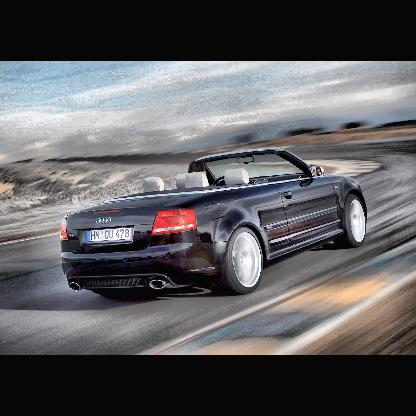Audi RS 4 Convertible 2008: (61, 146, 369, 294)
